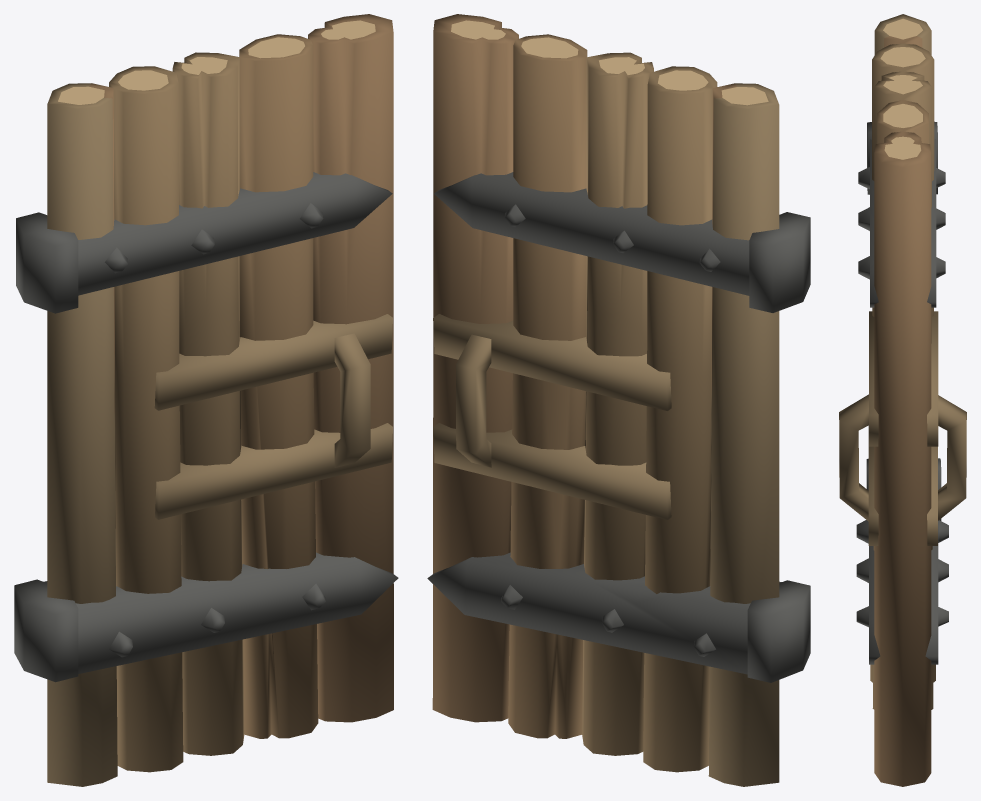
The model's file is rpgpp_ag_door_04a.fbx.
The picture shows the model from 3 angles, left to right: view 1: azimuth 30°, elevation 25°; view 2: azimuth 150°, elevation 25°; view 3: azimuth 270°, elevation 25°; orthographic projection. The views are drawn at different scales.
Visible parts, largest first — view 1: rpgpp_ag_door_04a; view 2: rpgpp_ag_door_04a; view 3: rpgpp_ag_door_04a.
Part boxes in pixels (x1=…): rpgpp_ag_door_04a: x1=14, y1=14, x2=398, y2=786; rpgpp_ag_door_04a: x1=427, y1=14, x2=810, y2=786; rpgpp_ag_door_04a: x1=839, y1=14, x2=966, y2=786.
Size of the model in its own units: 1.37 by 2.41 by 0.4507.
